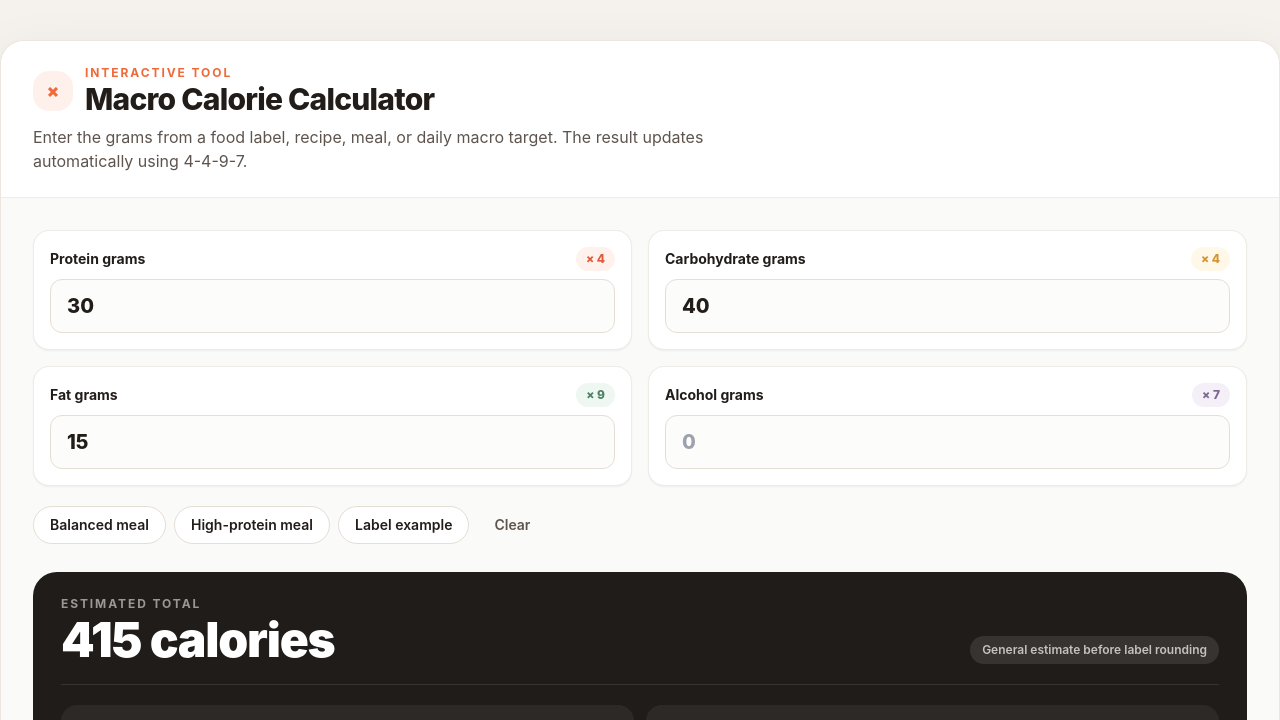
CaloriesPerGramCalculator › clears all values without producing an invalid result
Click the button "Clear".
click(512, 525)  # box [477,506,547,544]
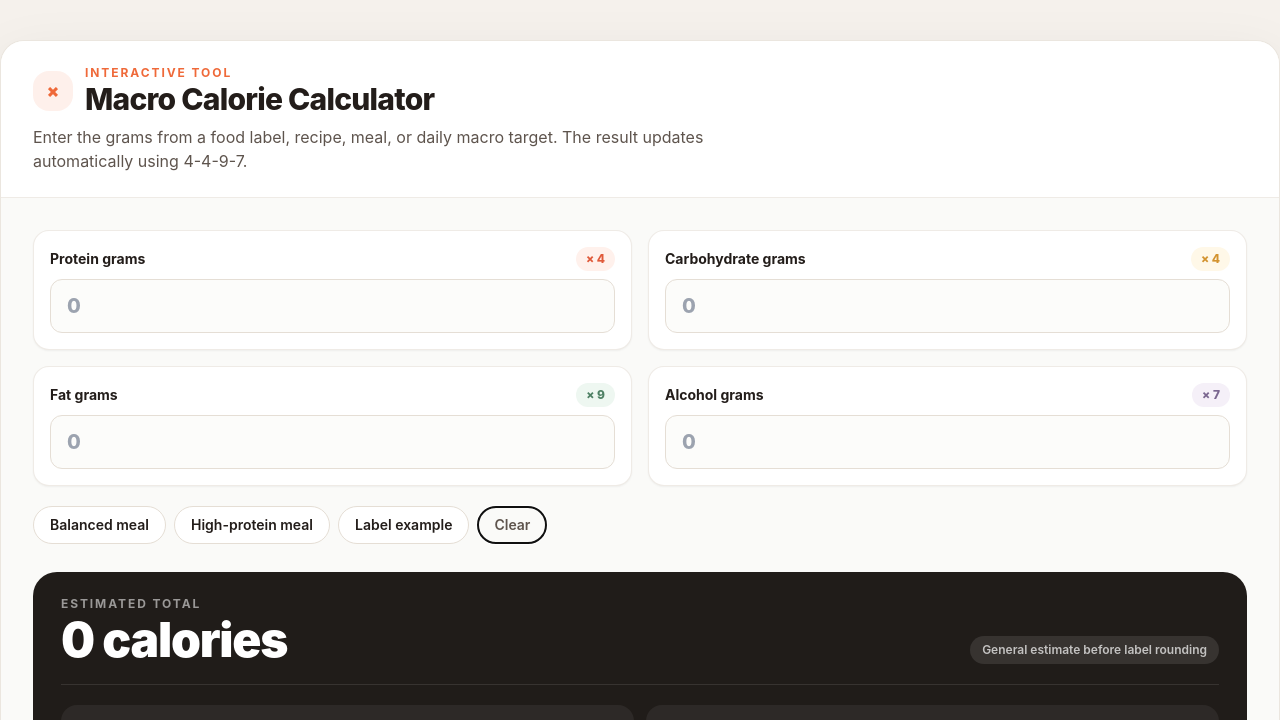
Expected: the number field labelled "Alcohol grams × 7" is not empty, [665,415,1230,469]
Expected: the message reads "0 calories", [61,616,287,664]
